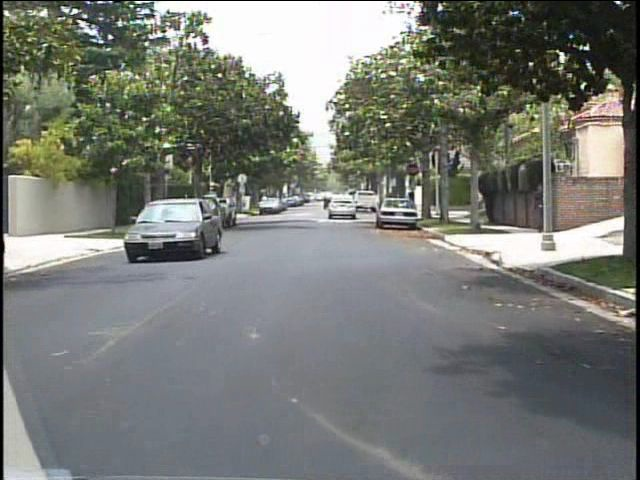person: (530, 179, 549, 238), (167, 193, 184, 231)
